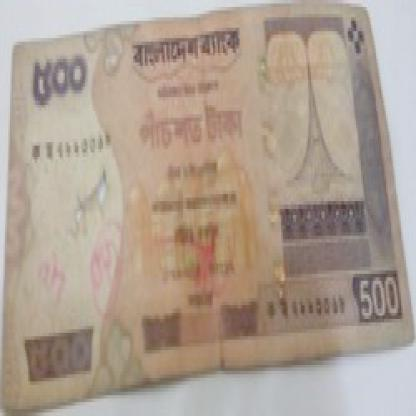500 taka: (24, 31, 112, 111)
currency: (1, 7, 415, 415)
